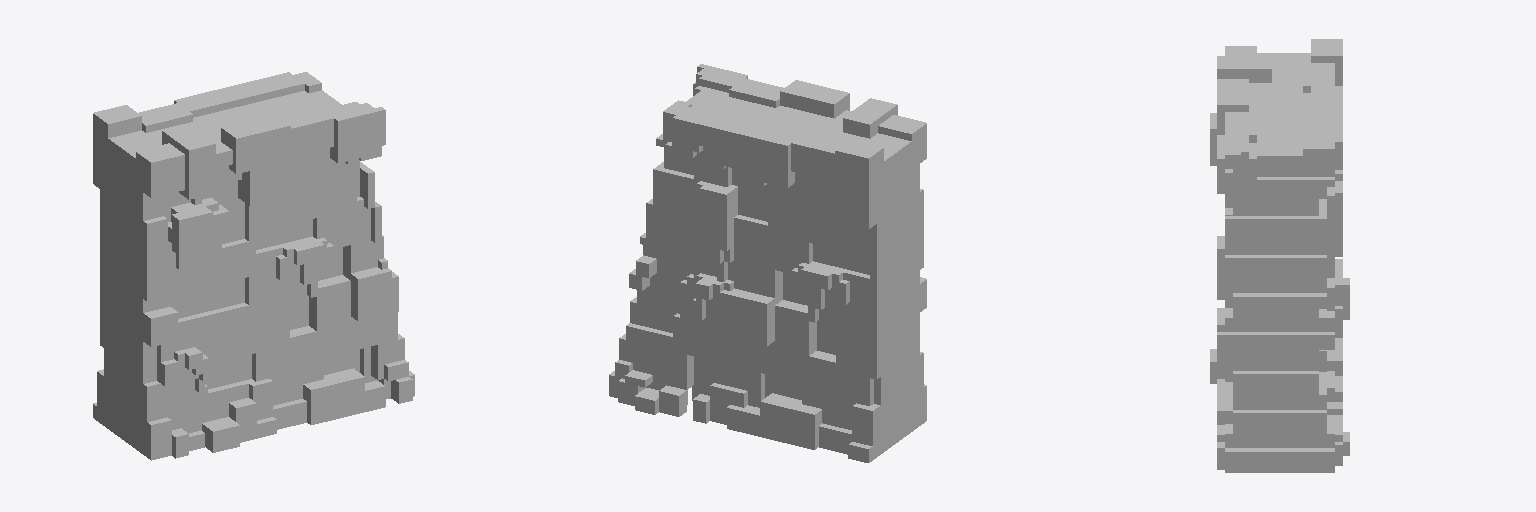
The model's file is EndWall.obj.
3 views of the same model, side by side, from view 1: azimuth 30°, elevation 25°; view 2: azimuth 150°, elevation 25°; view 3: azimuth 270°, elevation 25° (orthographic).
Visible parts, largest first — view 1: object 1; view 2: object 1; view 3: object 1.
Part boxes in pixels (bbox=[...]): object 1: bbox=[93, 72, 414, 460]; object 1: bbox=[609, 64, 926, 462]; object 1: bbox=[1210, 39, 1349, 472].
Size of the model in its own units: 3.9 by 4.3 by 1.8.